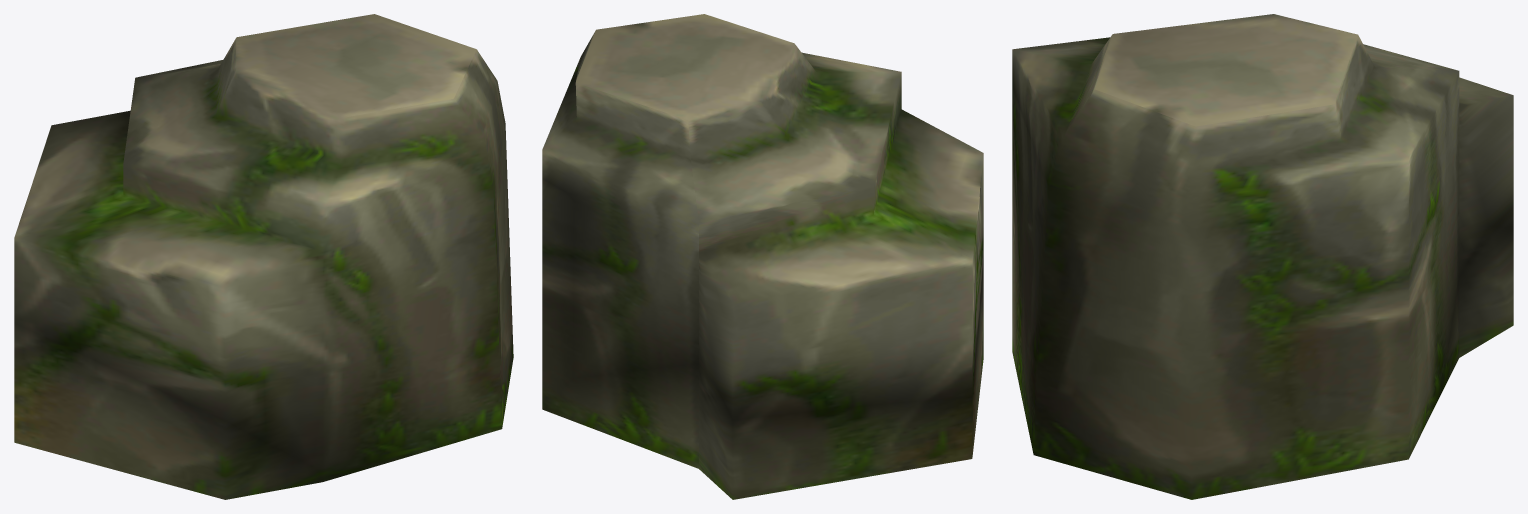
The model's file is RockFormation_4_5 (20).fbx.
3 views of the same model, side by side, from view 1: azimuth 30°, elevation 25°; view 2: azimuth 150°, elevation 25°; view 3: azimuth 270°, elevation 25° (orthographic). The views are drawn at different scales.
Parts seen in each view (by area): view 1: RockFormation_4_5 (20); view 2: RockFormation_4_5 (20); view 3: RockFormation_4_5 (20).
Boxes of the visible parts, box(x1,y1,x2,y2) form: RockFormation_4_5 (20): box(14, 14, 513, 499); RockFormation_4_5 (20): box(542, 14, 983, 499); RockFormation_4_5 (20): box(1012, 14, 1513, 499).
Size of the model in its own units: 2600 by 1698 by 2179.
